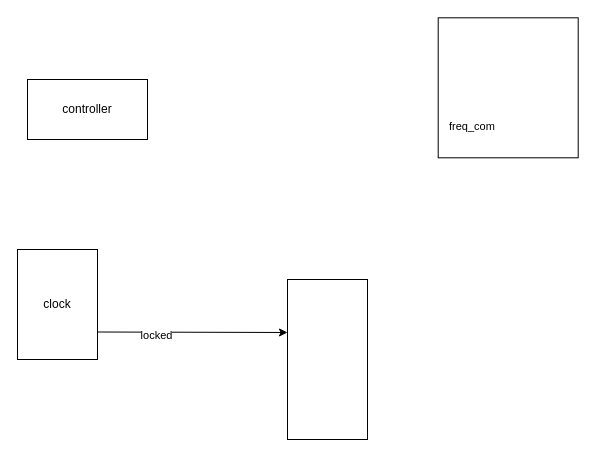
Image size: 605x457. Some labels were removed from this diagram. Each missing label, with the box of its shape:
phase_accumulator: (437, 17, 578, 158)
Rst: (286, 278, 368, 440)
